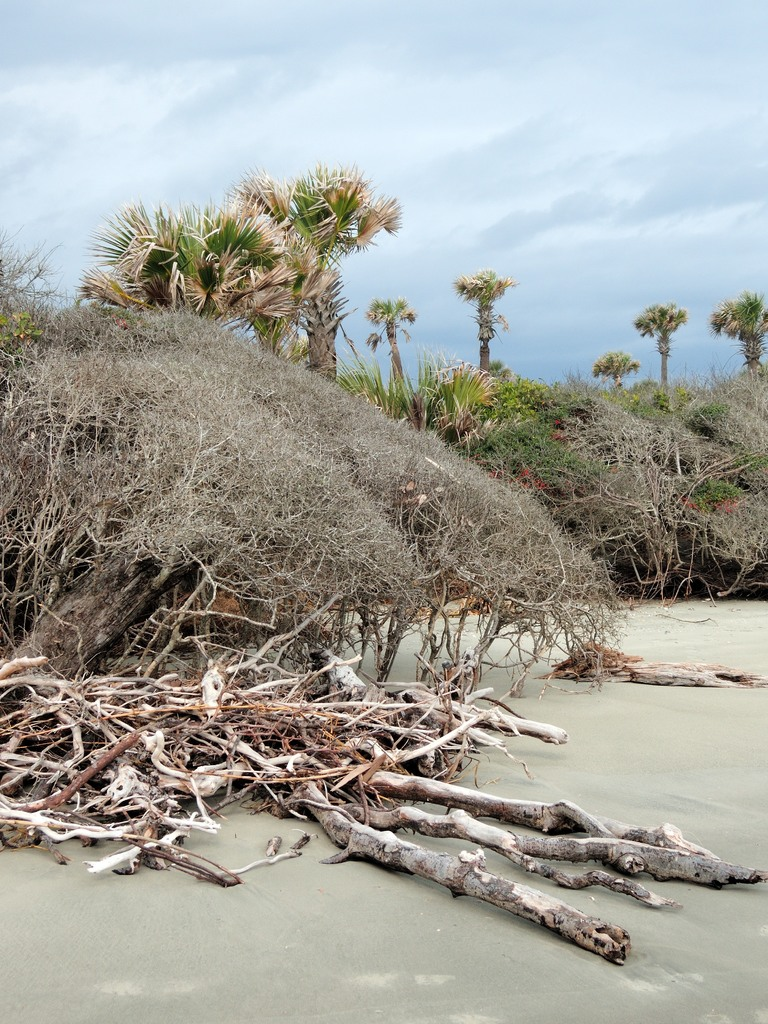Tree: (85, 167, 400, 376), (694, 285, 767, 394), (346, 282, 428, 376), (442, 264, 519, 362), (628, 299, 687, 423), (583, 343, 648, 392)
